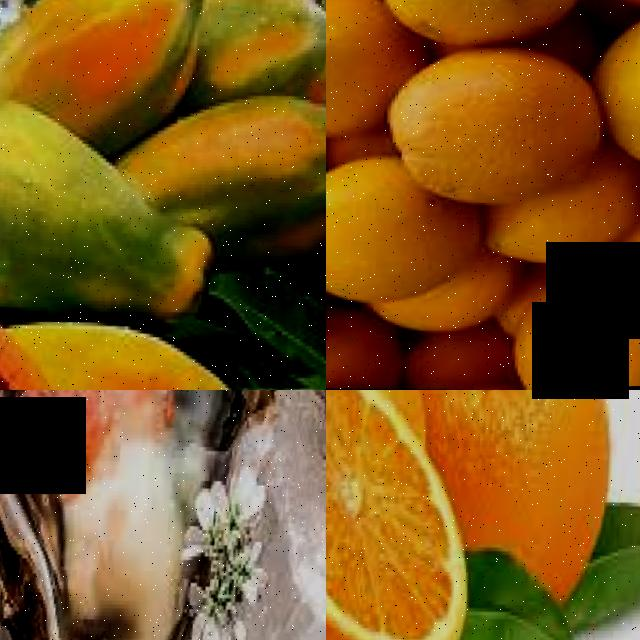orange: (326, 390, 469, 640), (401, 44, 602, 215), (418, 390, 624, 489), (326, 182, 476, 314), (500, 263, 640, 390), (326, 0, 408, 145), (375, 0, 586, 55), (598, 7, 640, 184)
oysters: (0, 390, 216, 640)
pawpaw: (0, 0, 206, 134), (0, 78, 135, 275), (205, 88, 326, 283), (188, 0, 326, 115), (80, 322, 271, 390)
